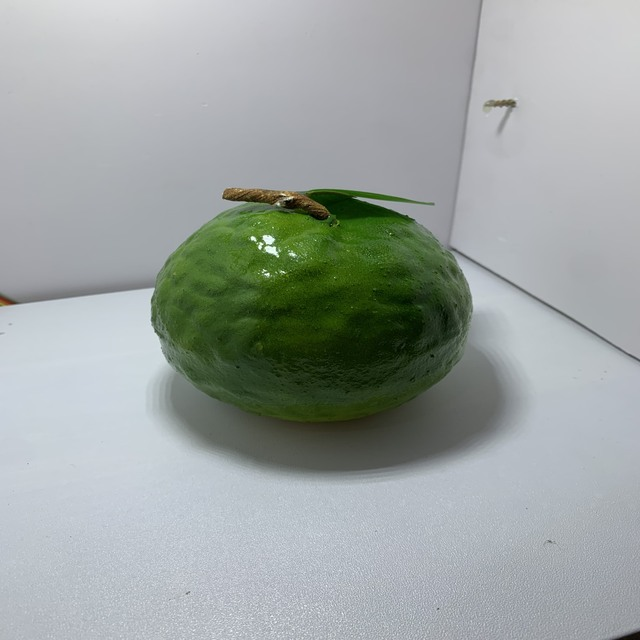Cam xanh: (138, 187, 479, 430)
